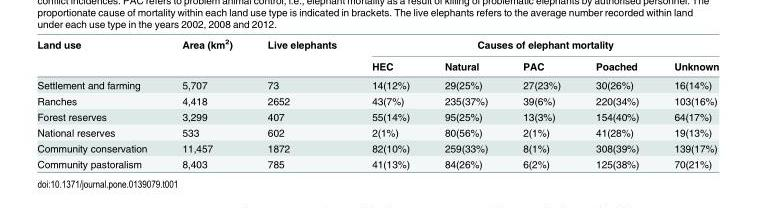table: (36, 36, 718, 169)
table column: (36, 36, 163, 169), (249, 36, 353, 169), (163, 36, 249, 169), (426, 36, 504, 169), (577, 36, 655, 169), (353, 36, 426, 169), (504, 36, 577, 169), (655, 36, 718, 169)
table column header: (36, 36, 718, 75)
table row: (36, 54, 718, 75), (36, 36, 718, 54), (36, 75, 718, 92), (36, 92, 718, 108), (36, 108, 718, 124), (36, 139, 718, 155), (36, 124, 718, 139), (36, 155, 718, 169)
table spanning cell: (353, 36, 718, 54), (36, 36, 163, 75), (249, 36, 353, 75), (163, 36, 249, 75)
